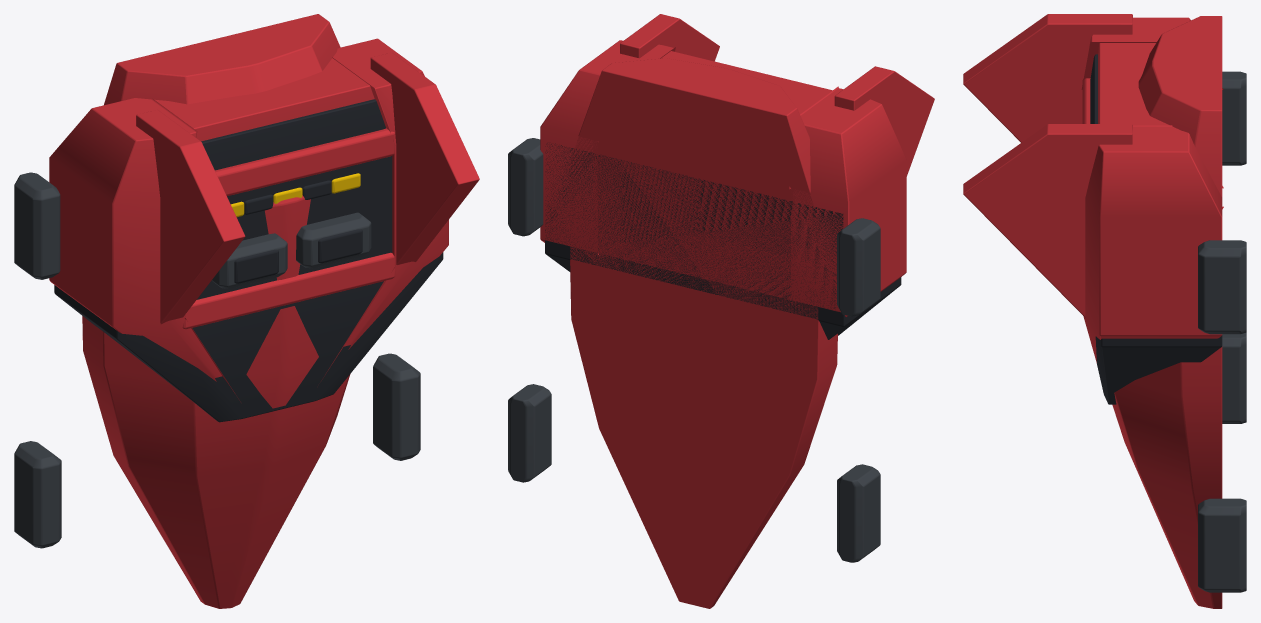
The model's file is ThighBack_Set05_Afterburn.fbx.
3 views of the same model, side by side, from view 1: azimuth 30°, elevation 25°; view 2: azimuth 150°, elevation 25°; view 3: azimuth 270°, elevation 25° (orthographic). The views are drawn at different scales.
Visible parts, largest first — view 1: ThighBack_Set05_Afterburn; view 2: ThighBack_Set05_Afterburn; view 3: ThighBack_Set05_Afterburn.
Part boxes in pixels (box(x1,y1,x2,y2)): ThighBack_Set05_Afterburn: box(14, 14, 479, 608); ThighBack_Set05_Afterburn: box(508, 14, 934, 608); ThighBack_Set05_Afterburn: box(963, 14, 1246, 608).
Bounding box in the file's own units: 0.53 × 0.73 × 0.3485.
